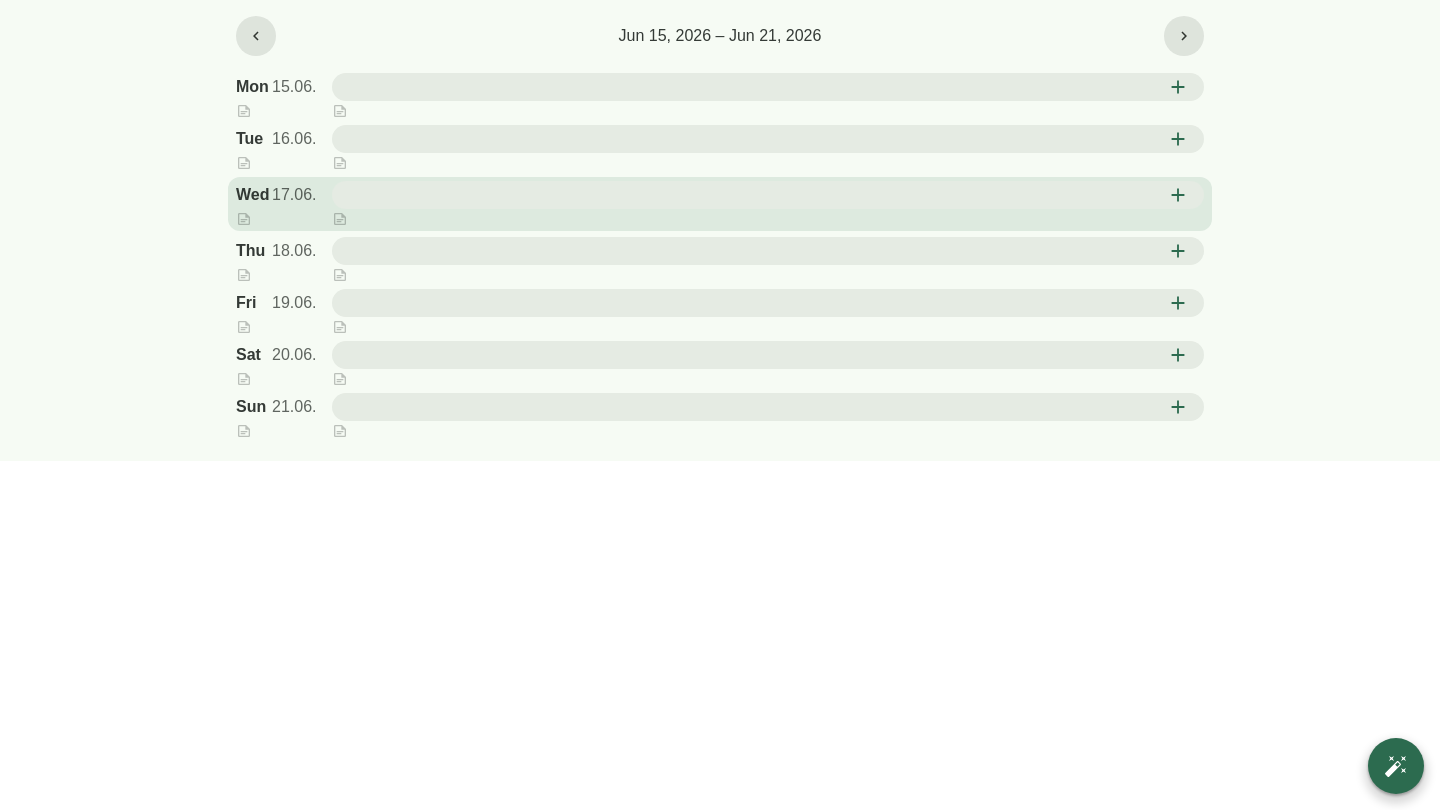
MealPlanView week navigation › navigates to the next week when the forward arrow is clicked
The image size is (1440, 810).
Click the button named "Next week".
click(1184, 36)  # box [1164, 16, 1204, 56]
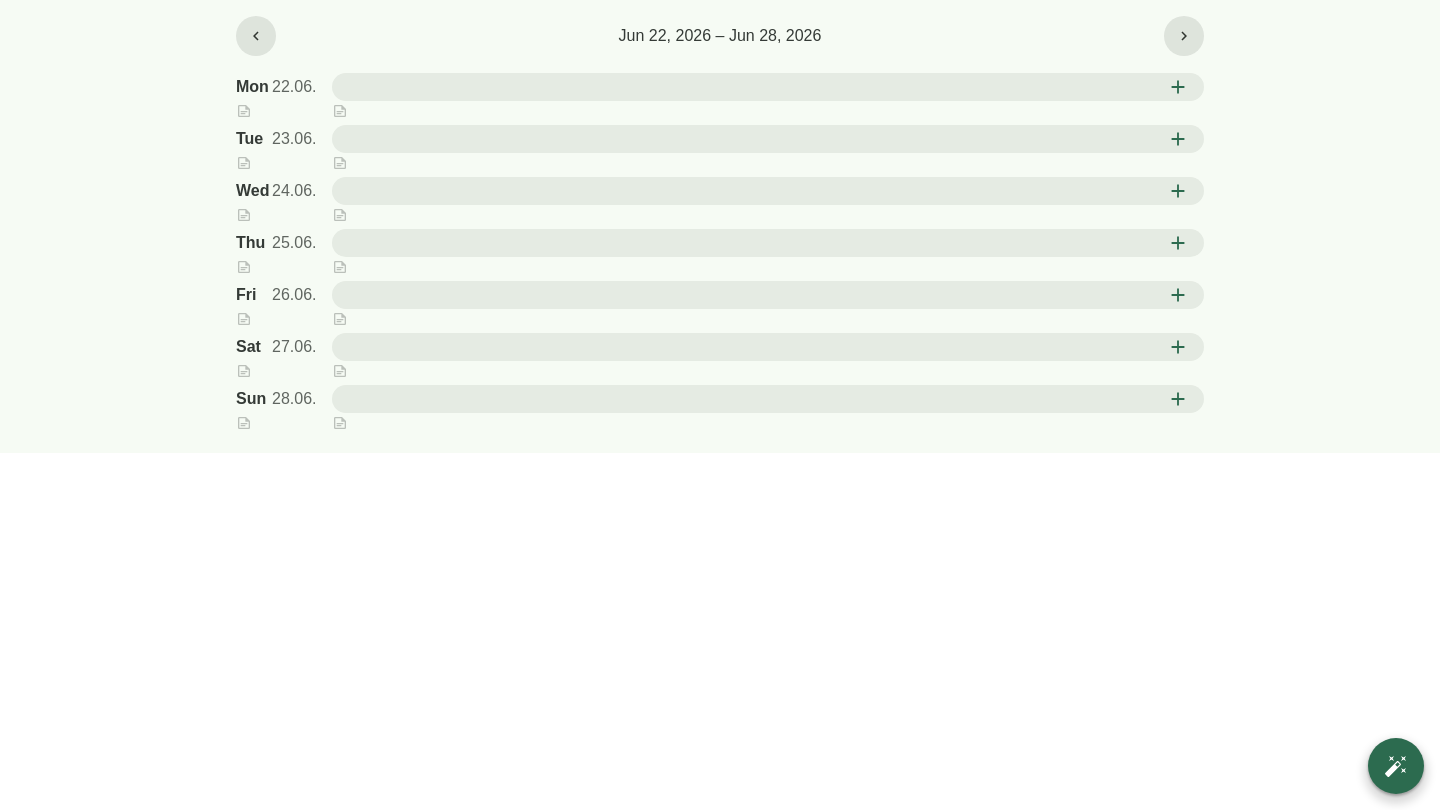
Now the text "Jun 22, 2026" is shown, box [619, 27, 821, 44]
Now the text "Jun 28, 2026" is shown, box [619, 27, 821, 44]
